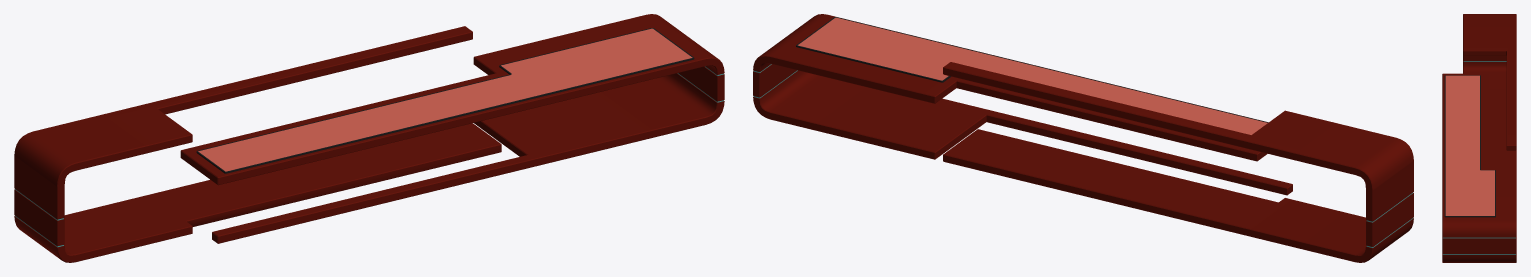
File: W_O_Forum_Bench_001_b_L0.fbx
3 views of the same model, side by side, from view 1: azimuth 30°, elevation 25°; view 2: azimuth 150°, elevation 25°; view 3: azimuth 270°, elevation 25° (orthographic). The views are drawn at different scales.
Visible parts, largest first — view 1: W_O_Forum_Bench_001_b_L0; view 2: W_O_Forum_Bench_001_b_L0; view 3: W_O_Forum_Bench_001_b_L0.
Boxes of the visible parts, bbox=[...] form: W_O_Forum_Bench_001_b_L0: bbox=[14, 14, 724, 262]; W_O_Forum_Bench_001_b_L0: bbox=[753, 14, 1413, 262]; W_O_Forum_Bench_001_b_L0: bbox=[1442, 14, 1516, 262].
Bounding box in the file's own units: 5 × 0.8 × 0.7313.
